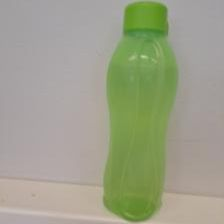bottle: (97, 2, 180, 221)
